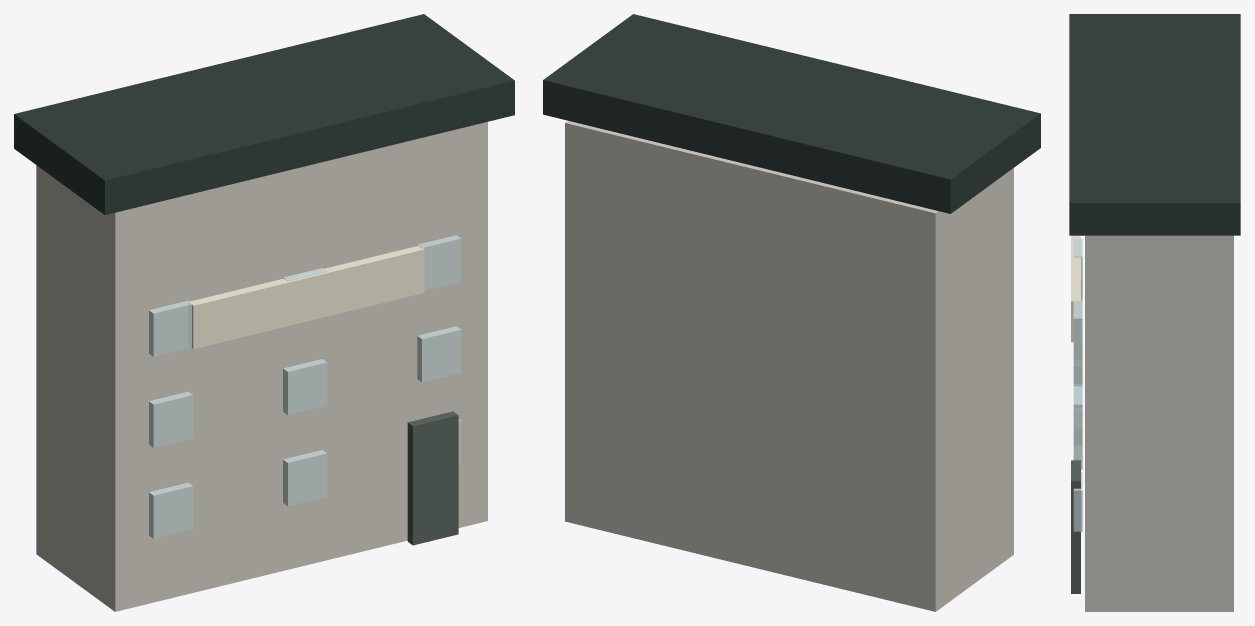
File: mall_block.glb
3 renders of one model, left to right at view 1: azimuth 30°, elevation 25°; view 2: azimuth 150°, elevation 25°; view 3: azimuth 270°, elevation 25°, orthographic. The views are drawn at different scales.
Parts seen in each view (by area): view 1: body, roof, sign, door, window_5, window_1, window_4, window_3, window_0, window_6, window_8; view 2: body, roof; view 3: body, roof, door, sign, window_5, window_8, window_2, window_7.
Boxes of the visible parts, bbox=[...] form: body: bbox=[36, 122, 487, 611]; roof: bbox=[14, 14, 514, 214]; sign: bbox=[188, 246, 424, 348]; door: bbox=[407, 411, 458, 545]; window_5: bbox=[417, 326, 461, 382]; window_1: bbox=[283, 450, 327, 506]; window_4: bbox=[283, 359, 327, 415]; window_3: bbox=[149, 391, 192, 447]; window_0: bbox=[149, 482, 192, 538]; window_6: bbox=[149, 300, 192, 356]; window_8: bbox=[417, 235, 461, 290]; body: bbox=[565, 120, 1013, 611]; roof: bbox=[543, 14, 1040, 213]; body: bbox=[1085, 235, 1233, 611]; roof: bbox=[1069, 14, 1240, 235]; door: bbox=[1071, 460, 1080, 593]; sign: bbox=[1071, 235, 1080, 342]; window_5: bbox=[1073, 386, 1082, 445]; window_8: bbox=[1073, 300, 1082, 359]; window_2: bbox=[1073, 472, 1082, 531]; window_7: bbox=[1073, 238, 1082, 297].
Size of the model in its own units: 1.98 by 2.04 by 0.76.
